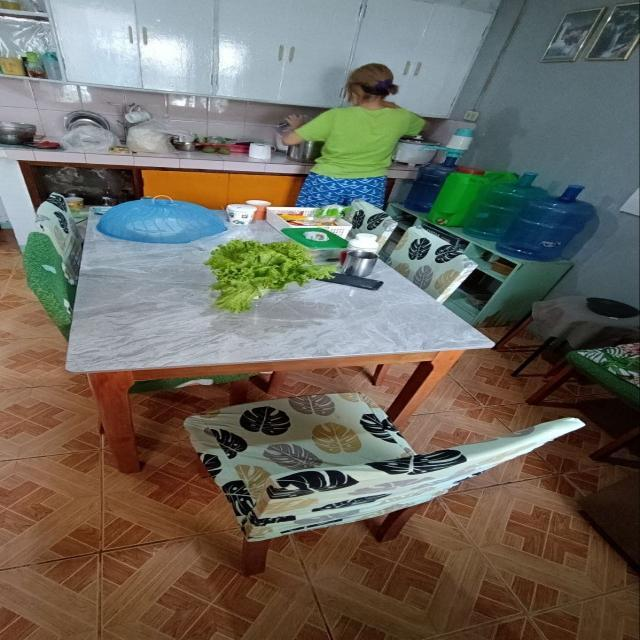Lettuce-Ready-to-Harvest: (205, 240, 332, 312)
